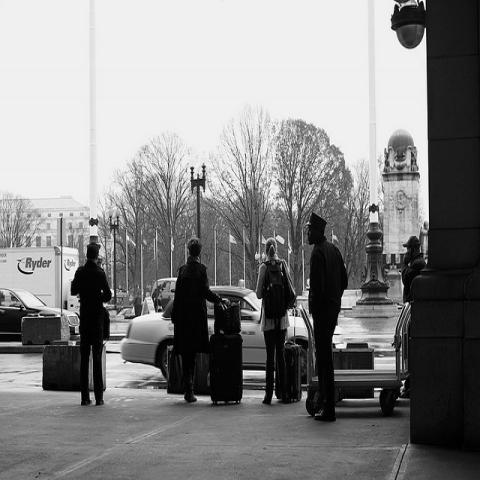car: (120, 286, 314, 378), (0, 288, 81, 340), (151, 276, 178, 312)
truck: (0, 244, 80, 311)
